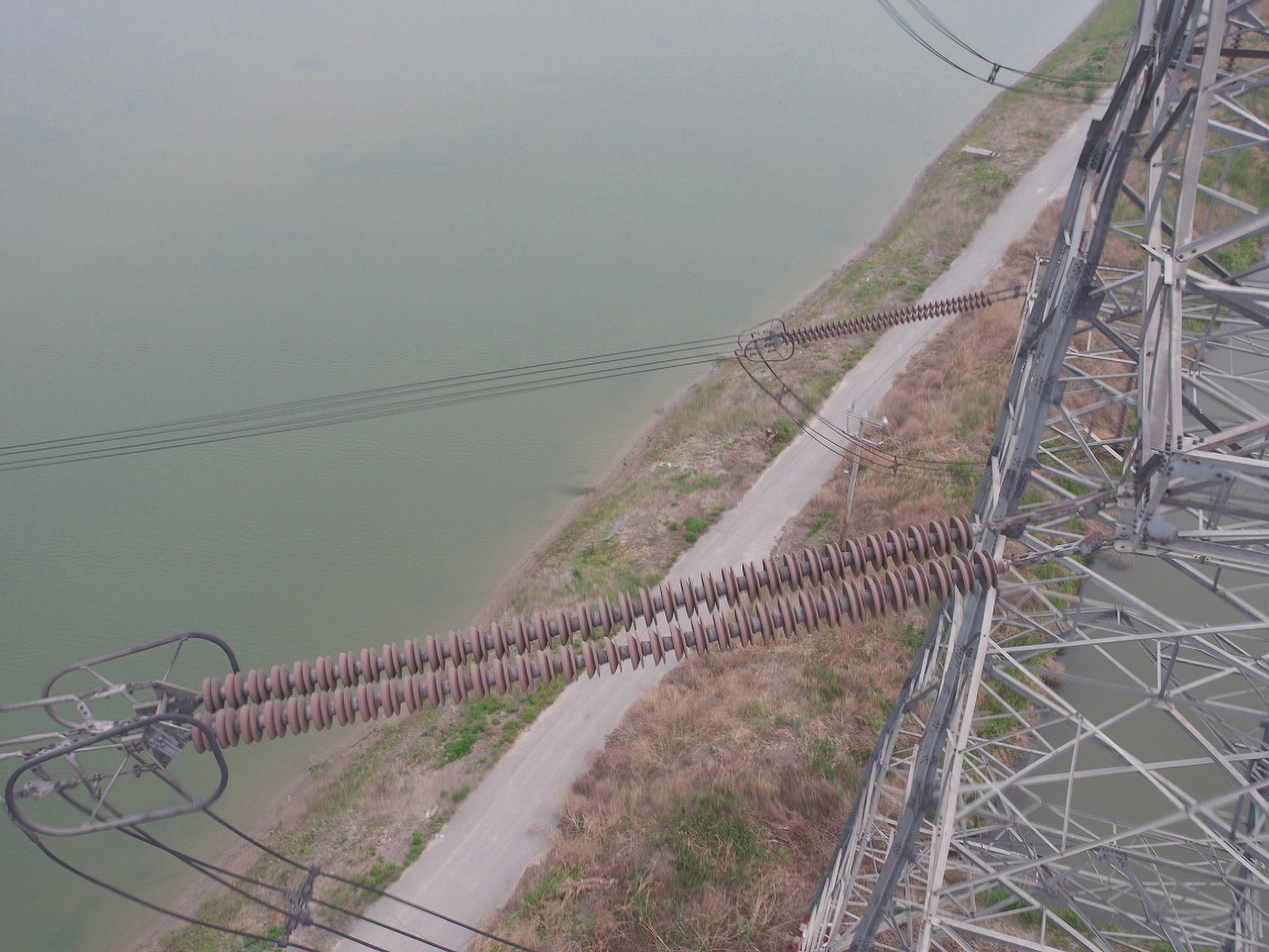insulator: (185, 509, 1005, 758), (778, 289, 995, 347)
